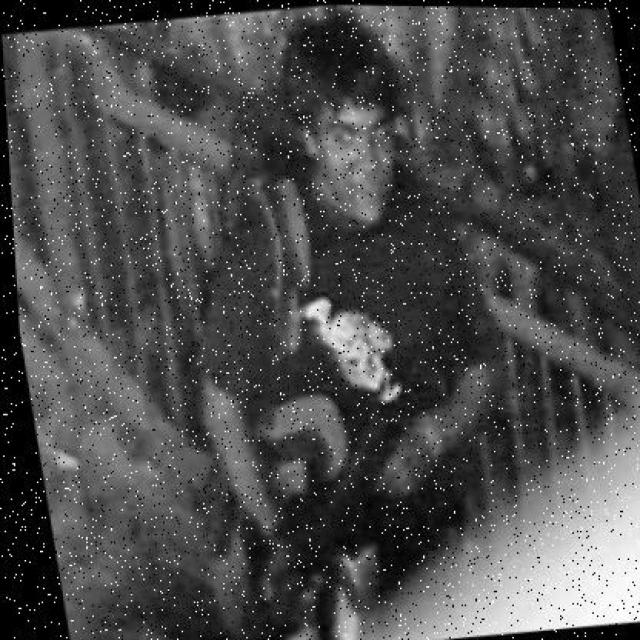weapon: (252, 405, 410, 626)
